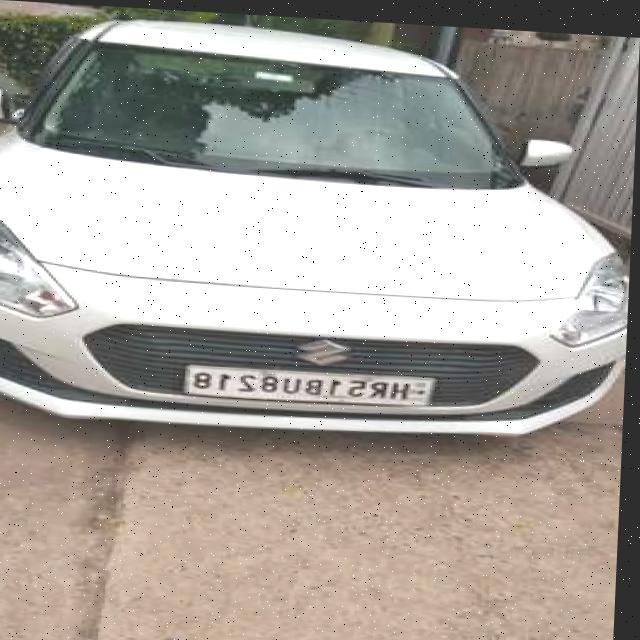plate: (194, 362, 441, 407)
